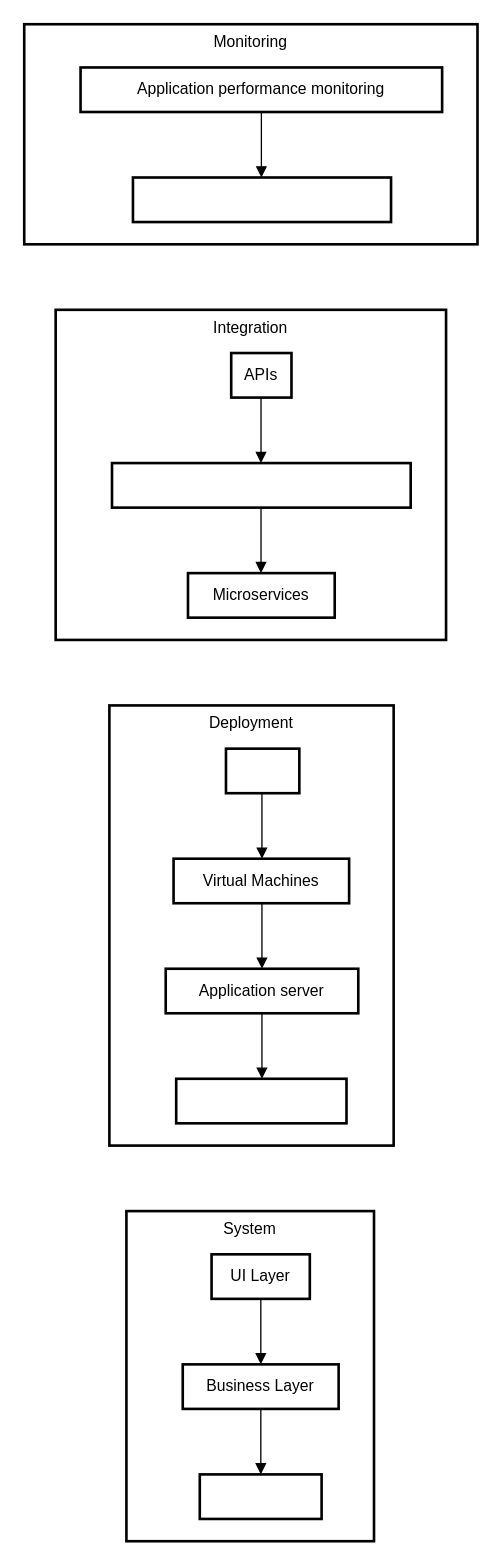
Image size: 500x1564. Some labels were removed from this diagram. The centre of each missing label's shape, as x and y in pixels:
Cloud: the point at 262,770
Data Layer: the point at 260,1496
Database server: the point at 260,1100
Infrastructure monitoring: the point at 261,199
Service-oriented Architecture: the point at 260,484
